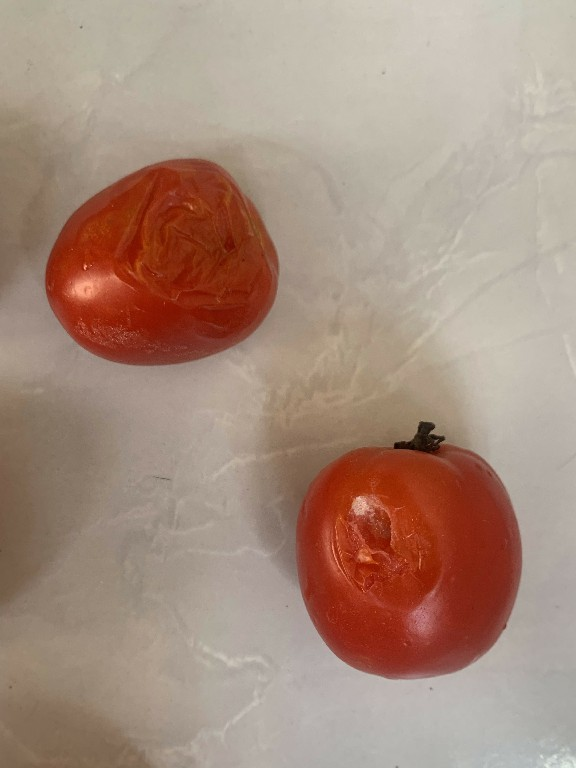NG: (273, 410, 534, 690), (28, 145, 291, 381)
